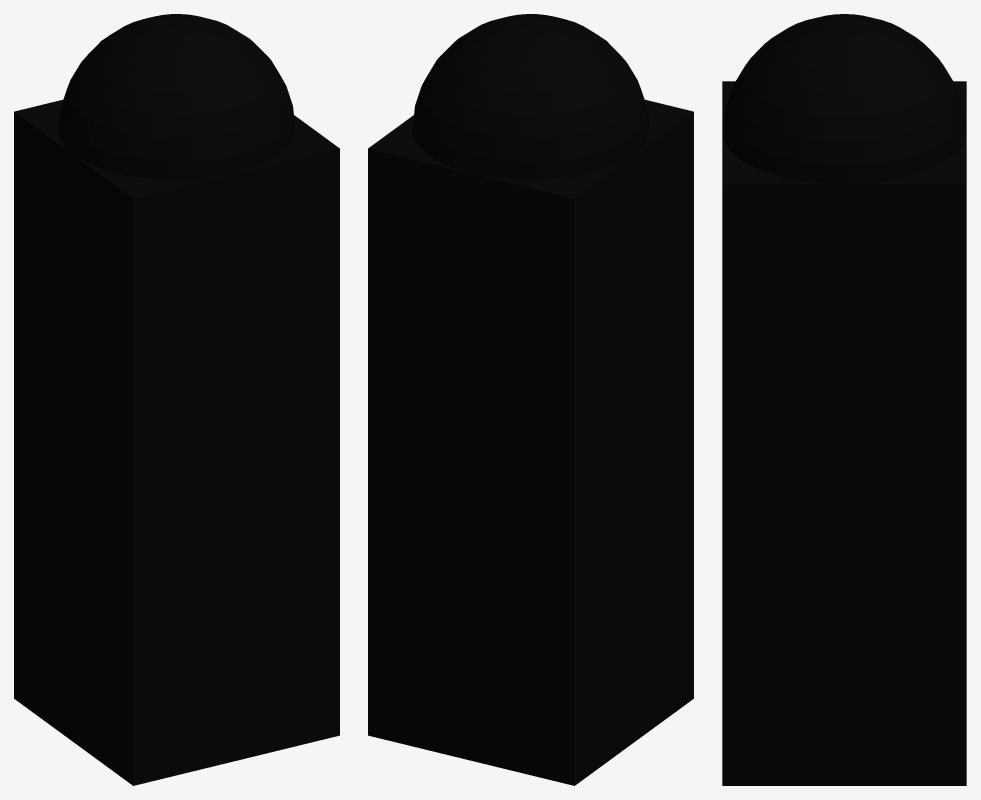
Rendered from enemy_left_foot_down.obj.
3 renders of one model, left to right at view 1: azimuth 30°, elevation 25°; view 2: azimuth 150°, elevation 25°; view 3: azimuth 270°, elevation 25°, orthographic. The views are drawn at different scales.
Visible parts, largest first — view 1: 立方體.015, 球體.008_球體.003; view 2: 立方體.015, 球體.008_球體.003; view 3: 立方體.015, 球體.008_球體.003.
Part boxes in pixels (x1,y1,x2,y2): 立方體.015: [14, 99, 339, 785]; 球體.008_球體.003: [58, 14, 295, 180]; 立方體.015: [368, 99, 693, 785]; 球體.008_球體.003: [412, 14, 649, 180]; 立方體.015: [722, 81, 966, 785]; 球體.008_球體.003: [722, 14, 966, 184].
Bounding box in the file's own units: 0.5804 × 1.86 × 0.5804.
Materials: 2 (2 with a texture image).
